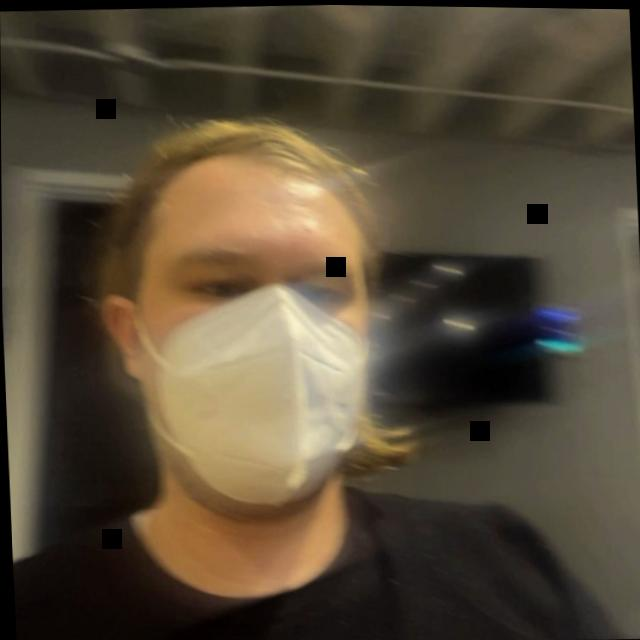Mask: (26, 82, 486, 592)
